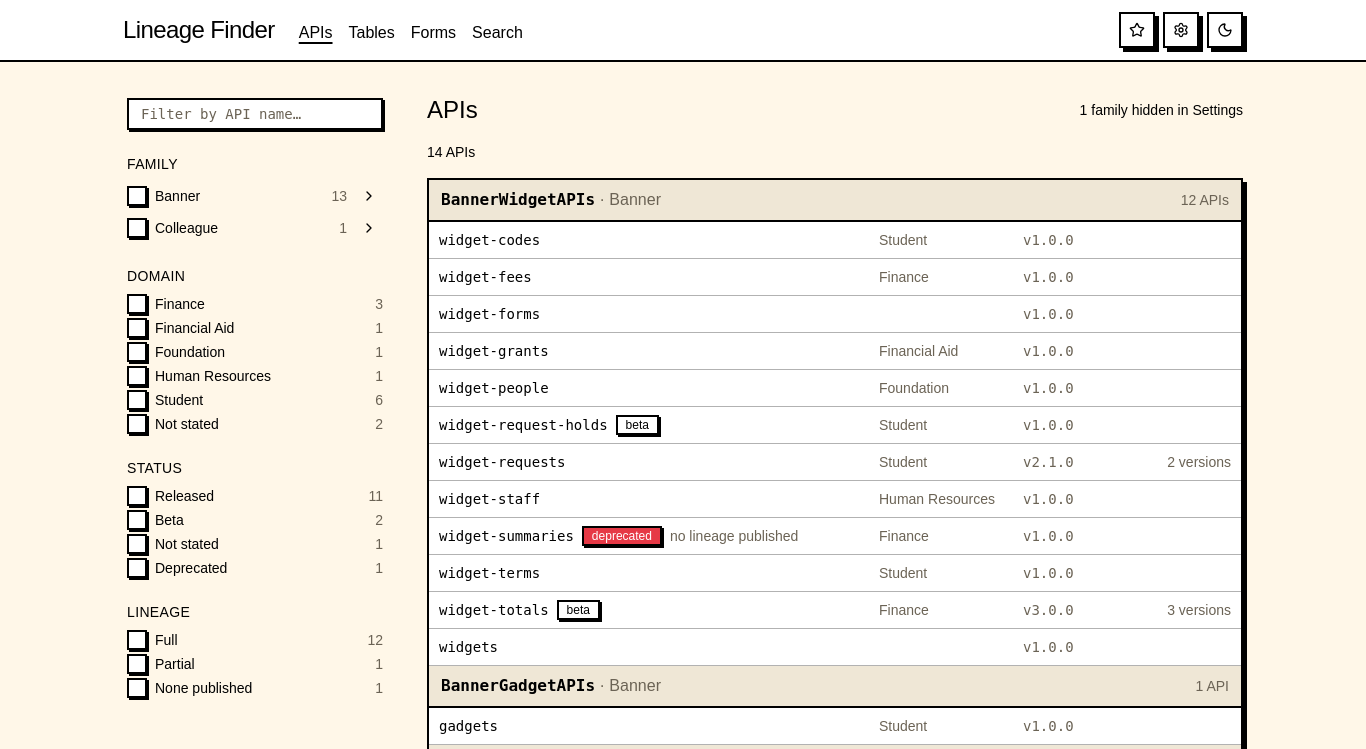
Test: the panel › says what's gone, hidden or has a newer version
The image size is (1366, 749).
Click the button named "Favourites" at (1137, 30), box [1119, 12, 1155, 48]
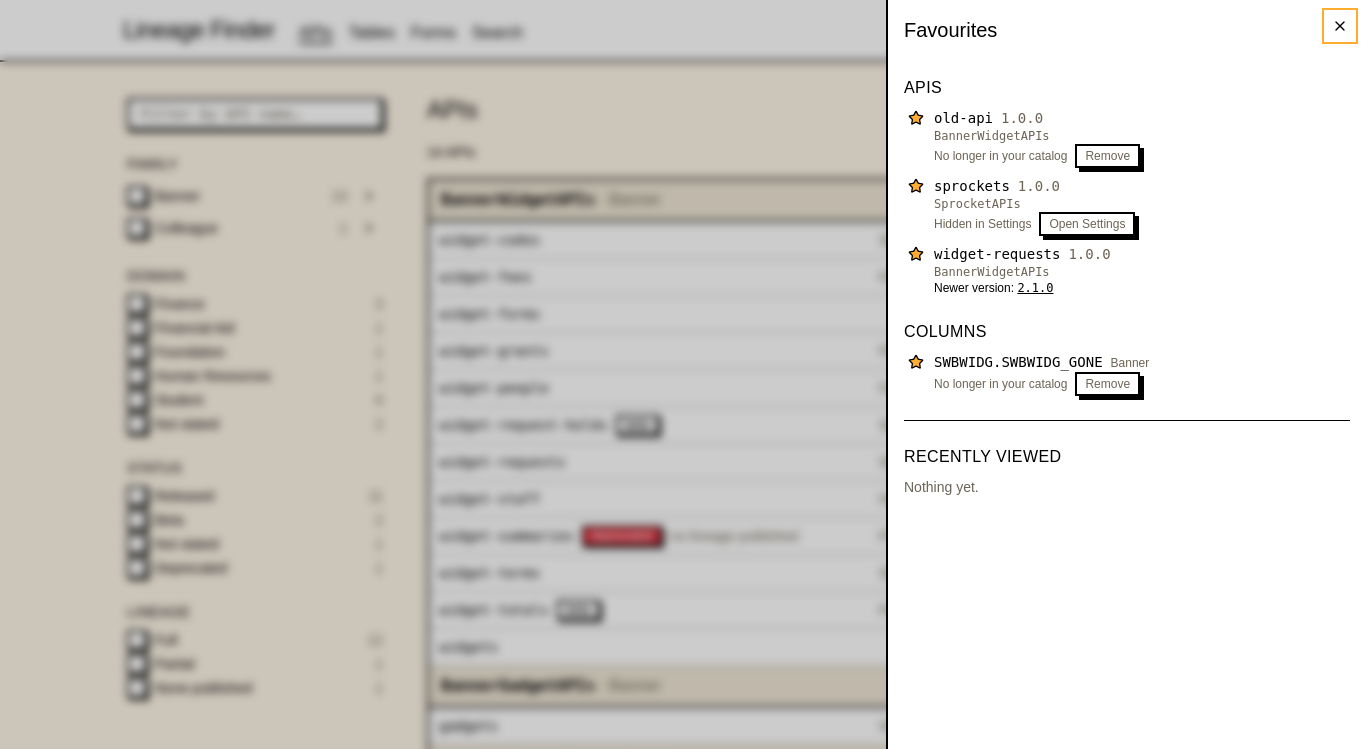
Check: the text "Newer version: 2.1.0" is shown, box [934, 281, 1054, 295]
Click the button "Remove" below "SWBWIDG.SWBWIDG_GONE" at (1108, 384), box [1075, 372, 1140, 396]
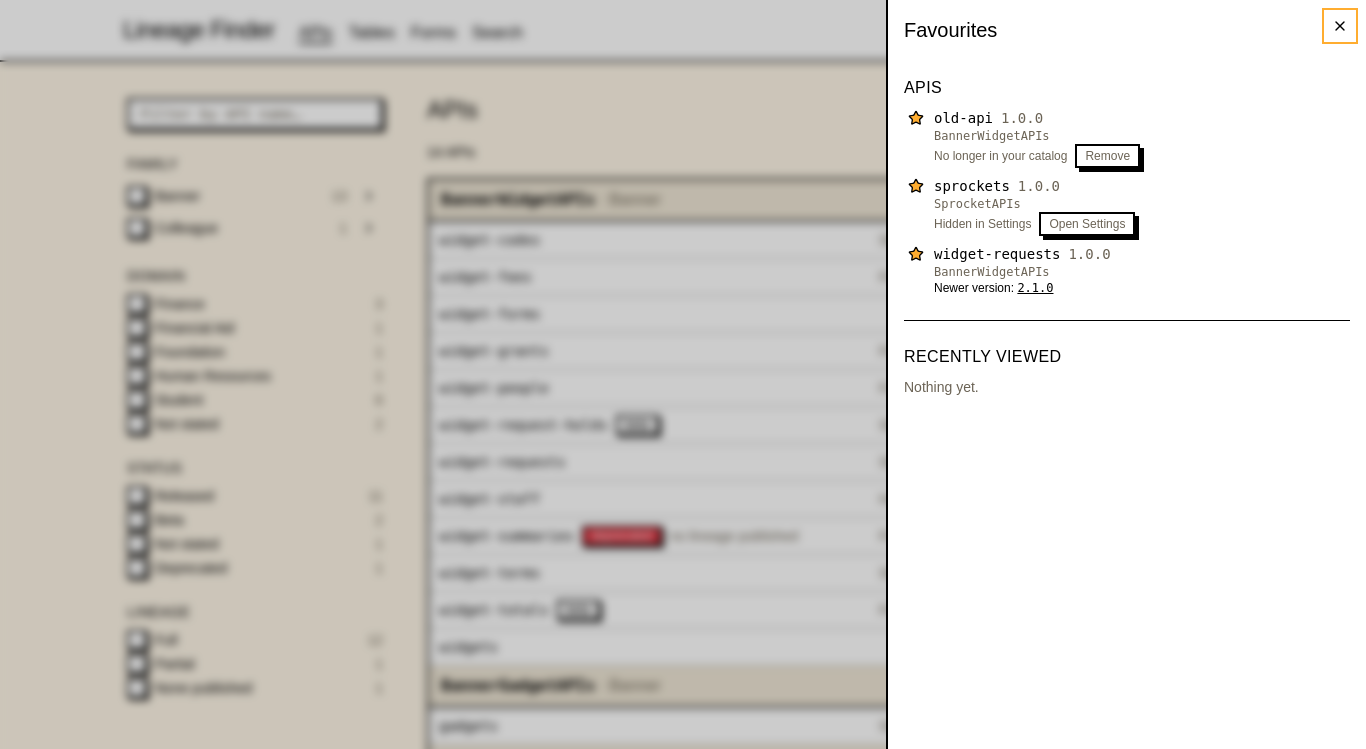
Click the button "Remove" at (1108, 156), box [1075, 144, 1140, 168]
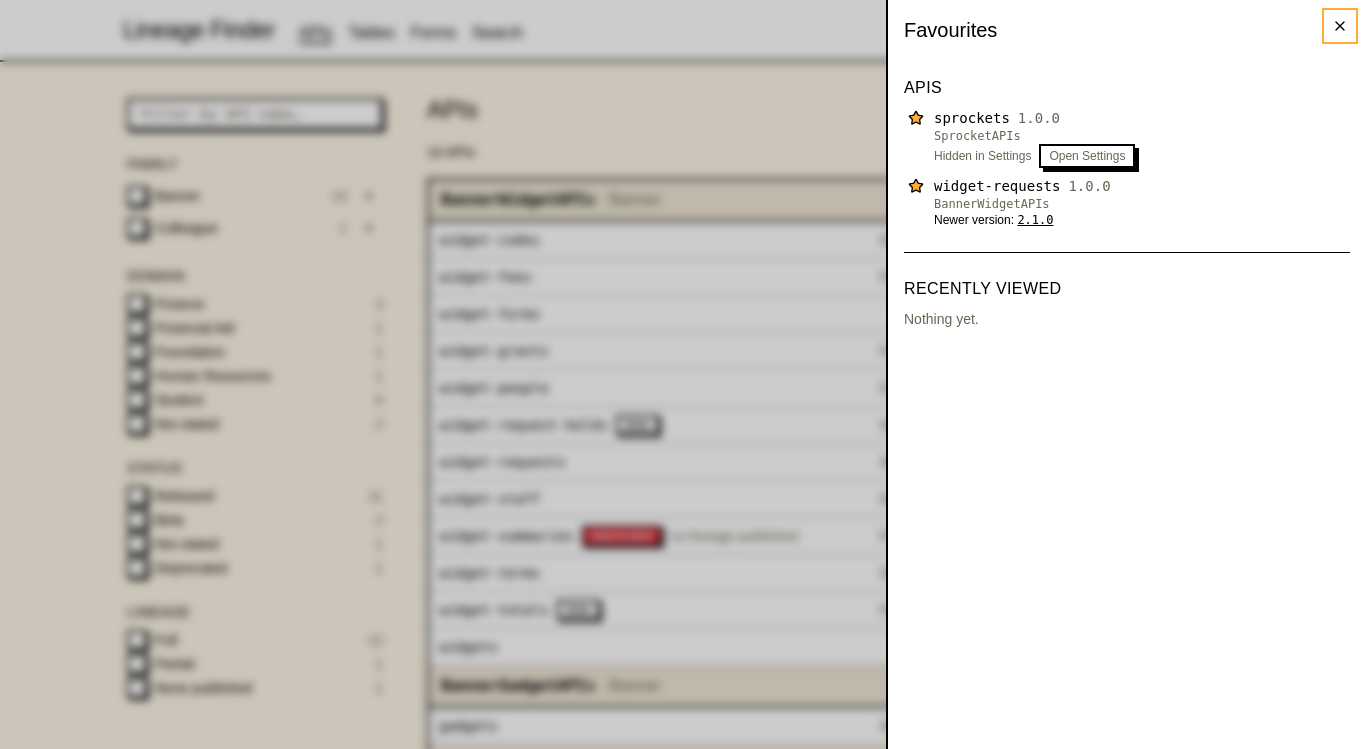
Check: the text "No longer in your catalog" is gone
Click the button "Open Settings" at (1087, 156), box [1039, 144, 1136, 168]
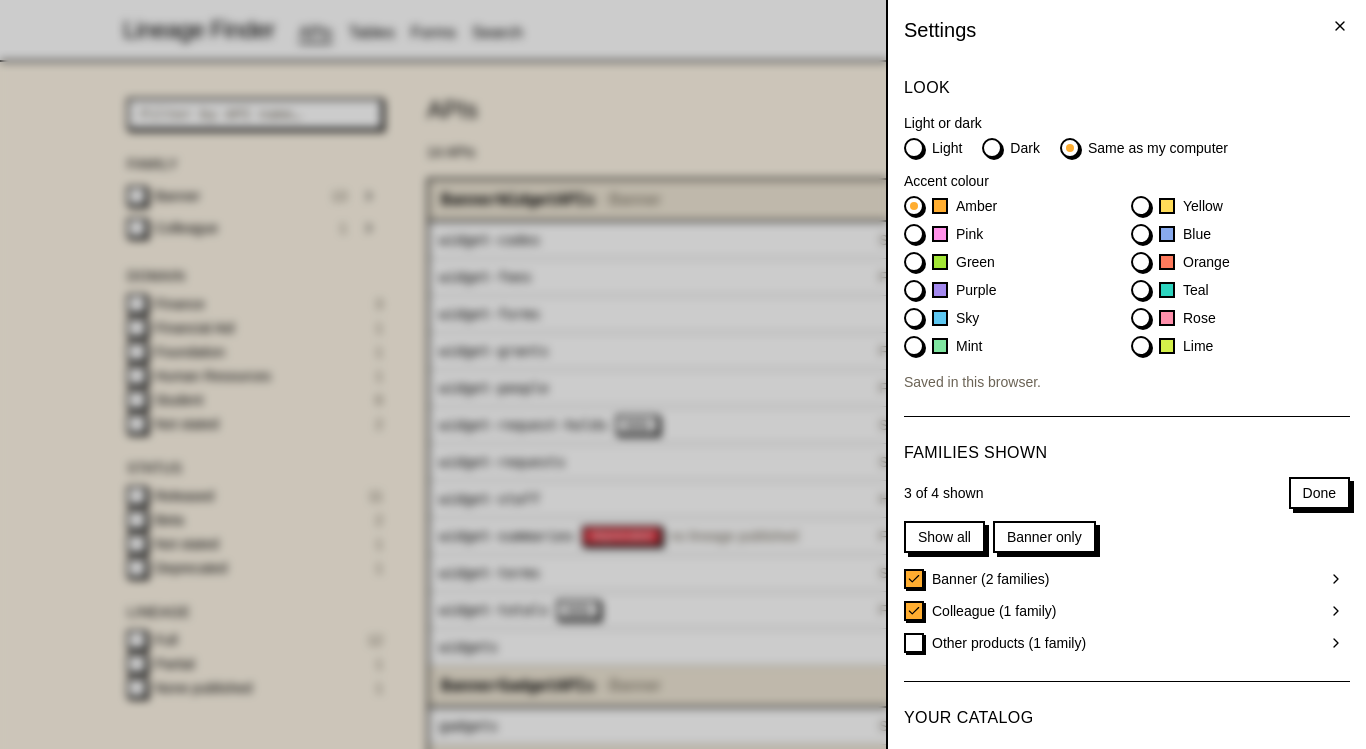
Check: the text "Families shown" is shown, box [904, 444, 1047, 461]
